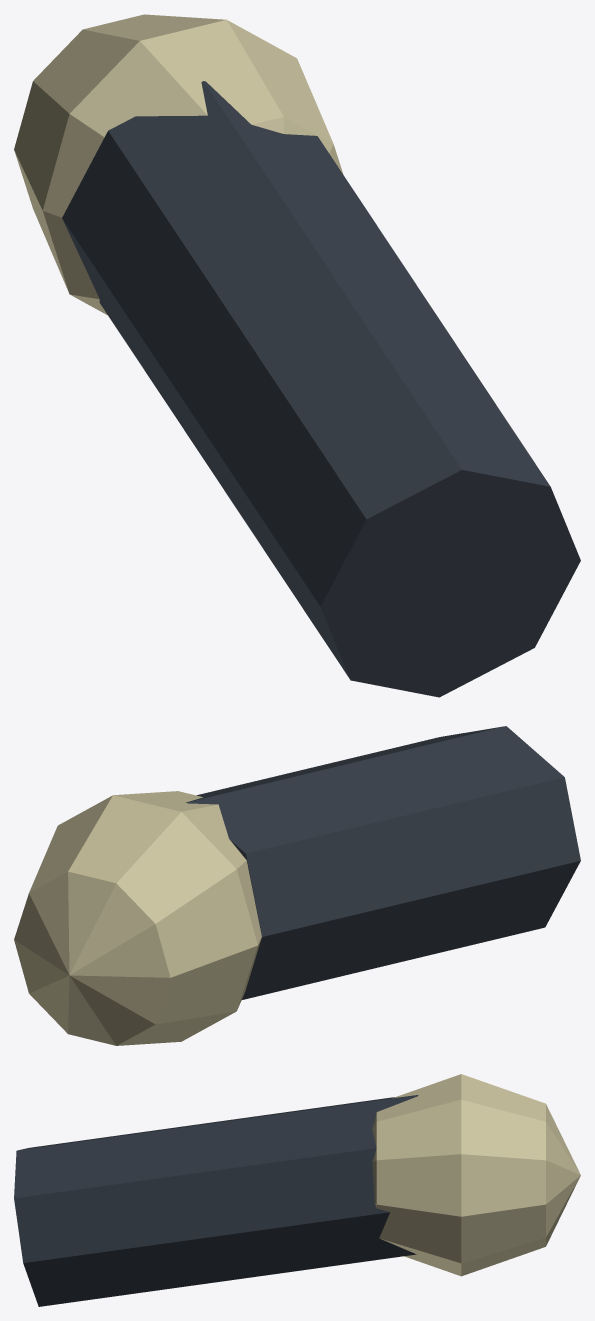
Rendered from Resident1LeftArm.obj.
The picture shows the model from 3 angles, top to bottom: view 1: azimuth 30°, elevation 25°; view 2: azimuth 150°, elevation 25°; view 3: azimuth 270°, elevation 25°; orthographic projection. The views are drawn at different scales.
Visible parts, largest first — view 1: Resident1LeftArm; view 2: Resident1LeftArm; view 3: Resident1LeftArm.
Boxes of the visible parts, box(x1,y1,x2,y2) form: Resident1LeftArm: box(14, 14, 580, 697); Resident1LeftArm: box(14, 726, 580, 1045); Resident1LeftArm: box(14, 1074, 580, 1306).
Size of the model in its own units: 28.42 by 31.2 by 66.34.
